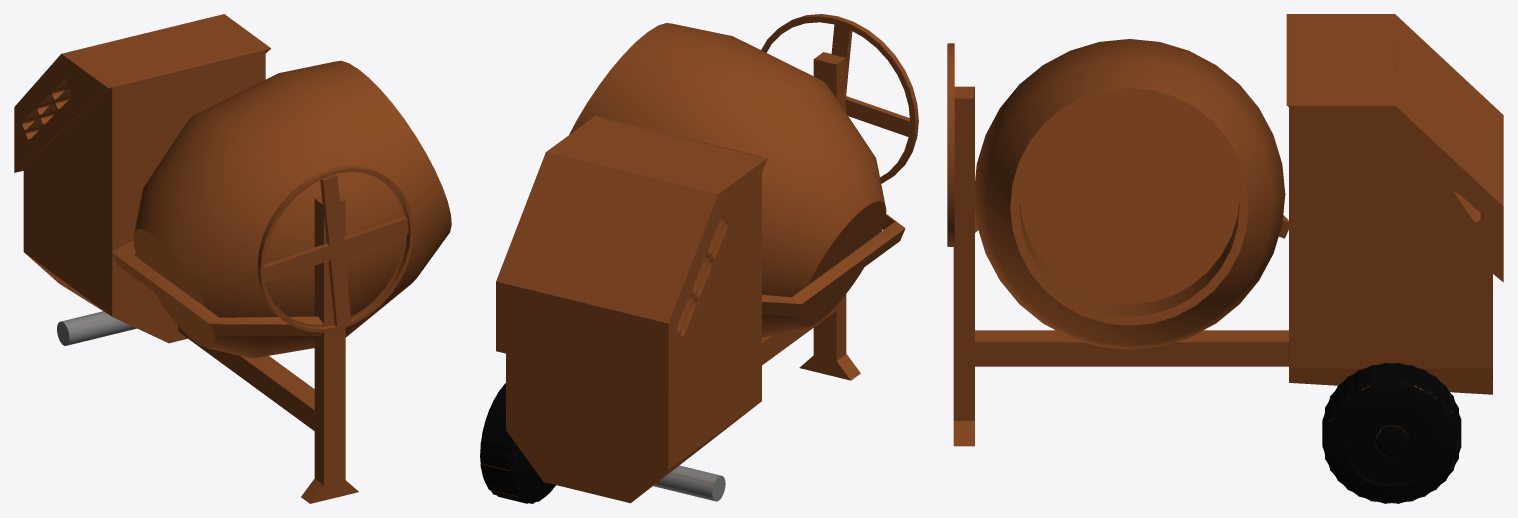
File: Mixer.fbx
3 views of the same model, side by side, from view 1: azimuth 30°, elevation 25°; view 2: azimuth 150°, elevation 25°; view 3: azimuth 270°, elevation 25° (orthographic). The views are drawn at different scales.
Visible parts, largest first — view 1: Mixer; view 2: Mixer; view 3: Mixer.
Part boxes in pixels (x1=…): Mixer: x1=14, y1=14, x2=451, y2=503; Mixer: x1=480, y1=14, x2=918, y2=503; Mixer: x1=947, y1=14, x2=1503, y2=503.
Bounding box in the file's own units: 352 × 442 × 545.
